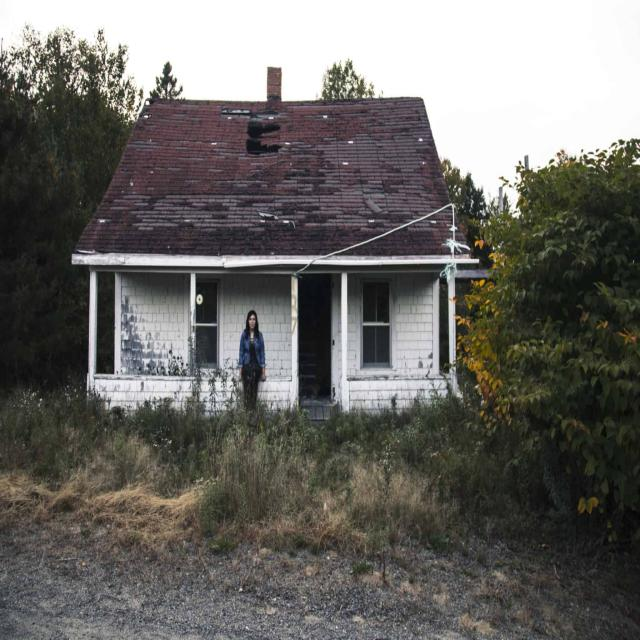House: (70, 68, 492, 414)
